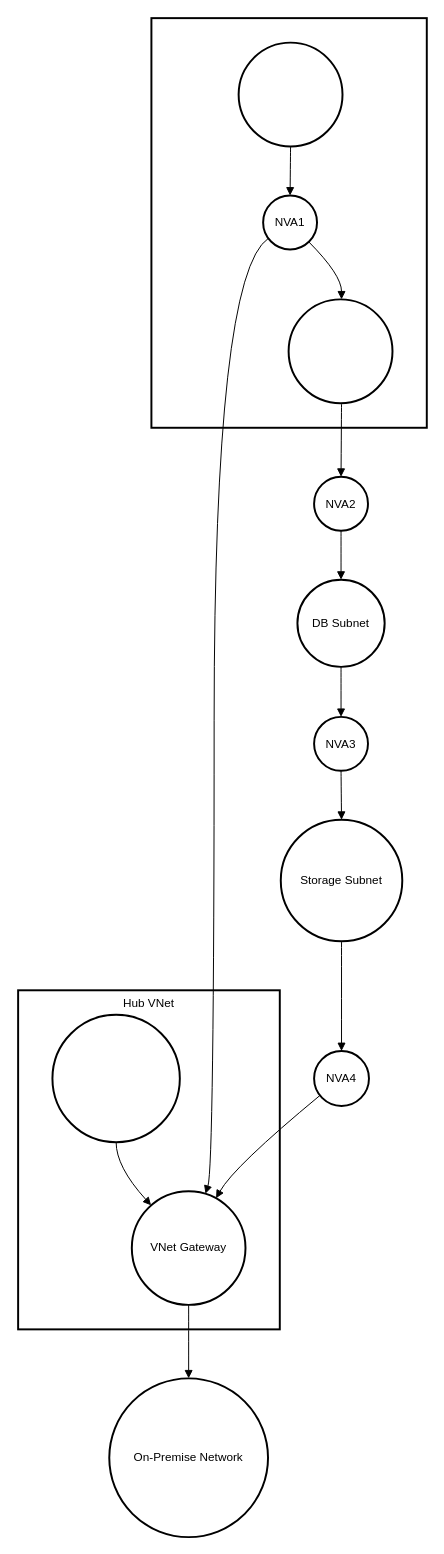
Some shapes in this 444 by 1554 pixel diagram are drawn without their labels. The shapes that lost their labels are listed below. From the top down, each one's box as (x1, y1, x2, y2) in pixels, then its label:
(237, 41, 343, 147): App1 Subnet
(150, 17, 427, 428): Spoke VNets
(287, 298, 393, 404): App2 Subnet
(51, 1013, 180, 1143): Gateway Subnet
